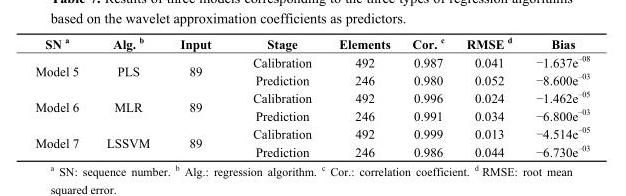table: (34, 34, 589, 158)
table column: (231, 34, 324, 158), (324, 34, 400, 158), (92, 34, 164, 158), (454, 34, 523, 158), (164, 34, 231, 158), (523, 34, 589, 158), (34, 34, 92, 158), (400, 34, 454, 158)
table column header: (34, 34, 589, 51)
table row: (34, 51, 589, 70), (34, 87, 589, 105), (34, 105, 589, 123), (34, 123, 589, 141), (34, 34, 589, 51), (34, 70, 589, 87), (34, 141, 589, 158)
table spanning cell: (92, 51, 164, 87), (92, 87, 164, 123), (92, 123, 164, 158), (164, 51, 231, 87), (164, 87, 231, 123), (164, 123, 231, 158), (34, 51, 92, 87), (34, 87, 92, 123), (34, 123, 92, 158)
